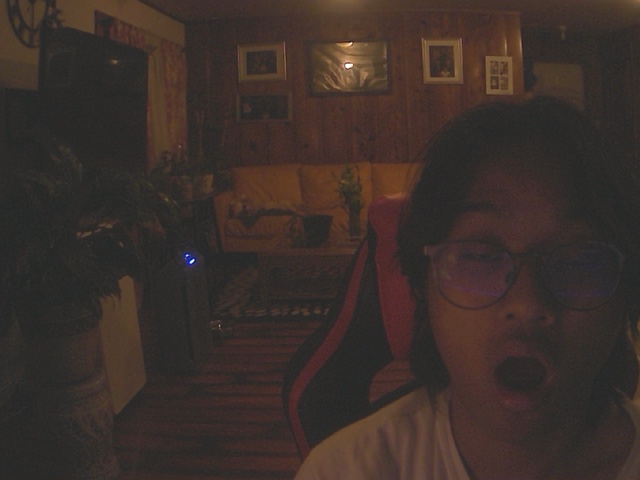fear: (388, 99, 640, 445)
